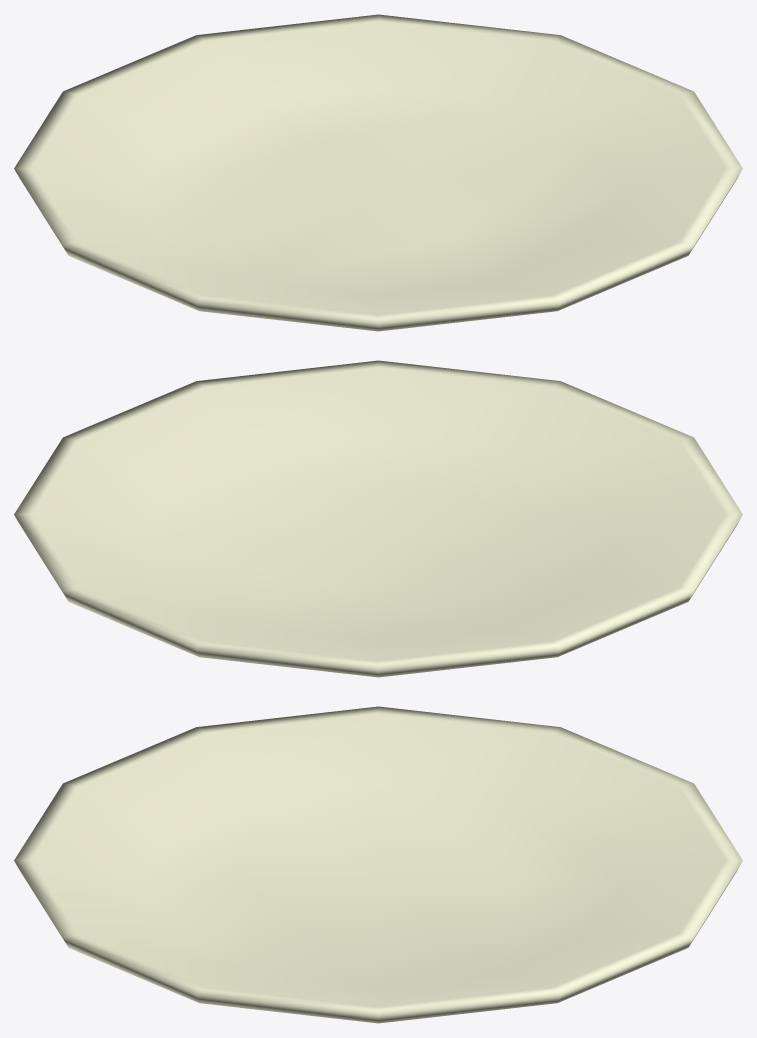
The model's file is Plate.fbx.
The picture shows the model from 3 angles, top to bottom: view 1: azimuth 30°, elevation 25°; view 2: azimuth 150°, elevation 25°; view 3: azimuth 270°, elevation 25°; orthographic projection.
Visible parts, largest first — view 1: Plate; view 2: Plate; view 3: Plate.
Boxes of the visible parts, x1,y1,x2,y2 form: Plate: (14, 14, 742, 331); Plate: (14, 360, 742, 677); Plate: (14, 706, 742, 1023).
Bounding box in the file's own units: 1063 × 82.99 × 1063.
